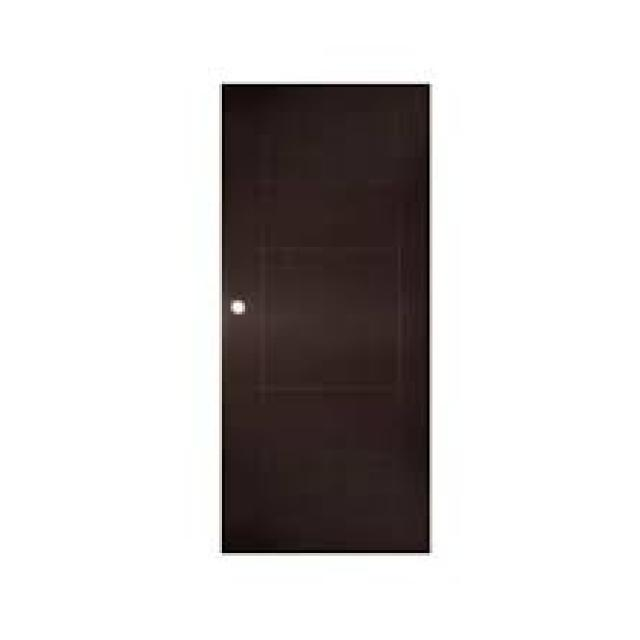door: (221, 83, 431, 554)
